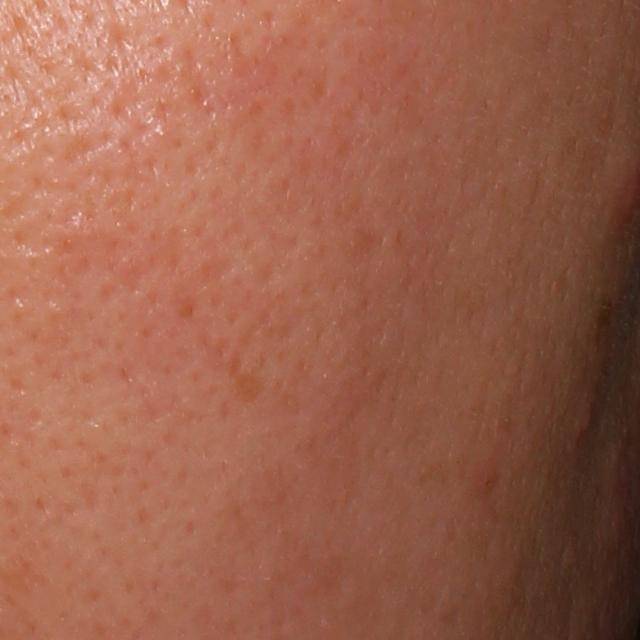papule: (579, 404, 599, 437)
